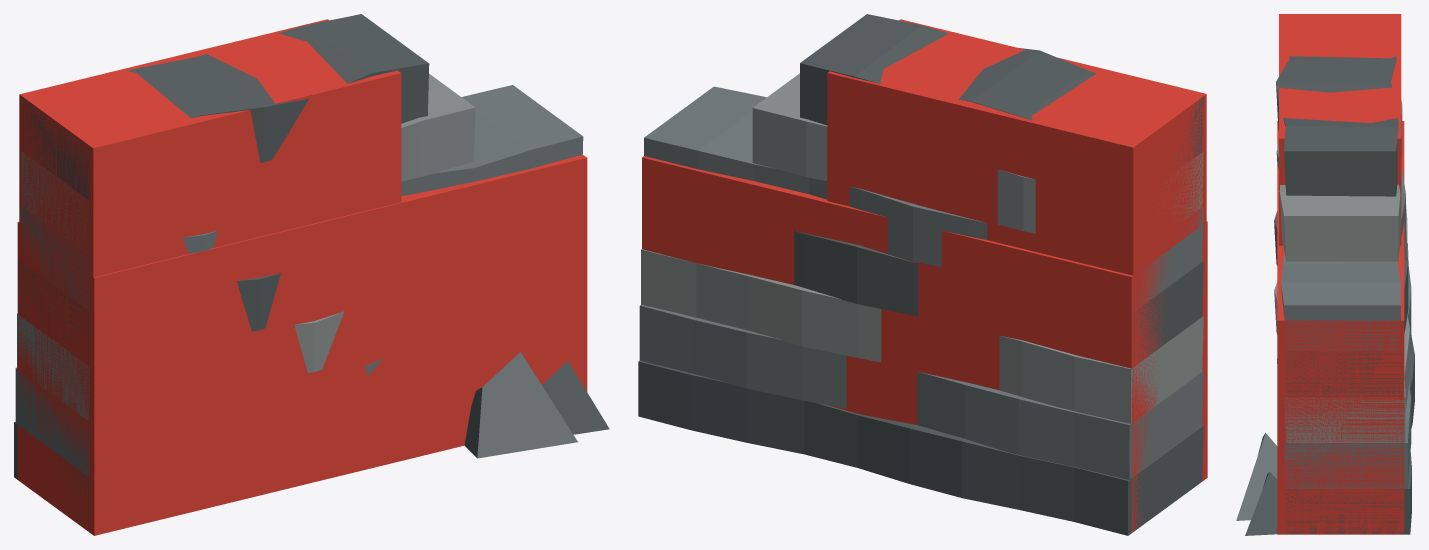
Rendered from ironwind_cliff_arch_transition.glb.
The picture shows the model from 3 angles, left to right: view 1: azimuth 30°, elevation 25°; view 2: azimuth 150°, elevation 25°; view 3: azimuth 270°, elevation 25°; orthographic projection. The views are drawn at different scales.
Visible parts, largest first — view 1: ironwind_cliff_arch_transition_wall_lower, ironwind_cliff_arch_transition_wall_upper, ironwind_cliff_arch_transition_lod0; view 2: ironwind_cliff_arch_transition_lod0, ironwind_cliff_arch_transition_wall_upper, ironwind_cliff_arch_transition_wall_lower; view 3: ironwind_cliff_arch_transition_lod0, ironwind_cliff_arch_transition_wall_lower, ironwind_cliff_arch_transition_wall_upper.
Part boxes in pixels (bbox=[...]): ironwind_cliff_arch_transition_wall_lower: bbox=[17, 154, 587, 535]; ironwind_cliff_arch_transition_wall_upper: bbox=[19, 19, 401, 277]; ironwind_cliff_arch_transition_lod0: bbox=[14, 14, 609, 529]; ironwind_cliff_arch_transition_lod0: bbox=[638, 14, 1203, 535]; ironwind_cliff_arch_transition_wall_upper: bbox=[827, 19, 1206, 275]; ironwind_cliff_arch_transition_wall_lower: bbox=[642, 156, 1207, 532]; ironwind_cliff_arch_transition_lod0: bbox=[1236, 56, 1414, 535]; ironwind_cliff_arch_transition_wall_lower: bbox=[1277, 121, 1404, 534]; ironwind_cliff_arch_transition_wall_upper: bbox=[1279, 14, 1401, 245].
Size of what is drawn, in the model's own units: 16.1 by 12.1 by 6.06.
